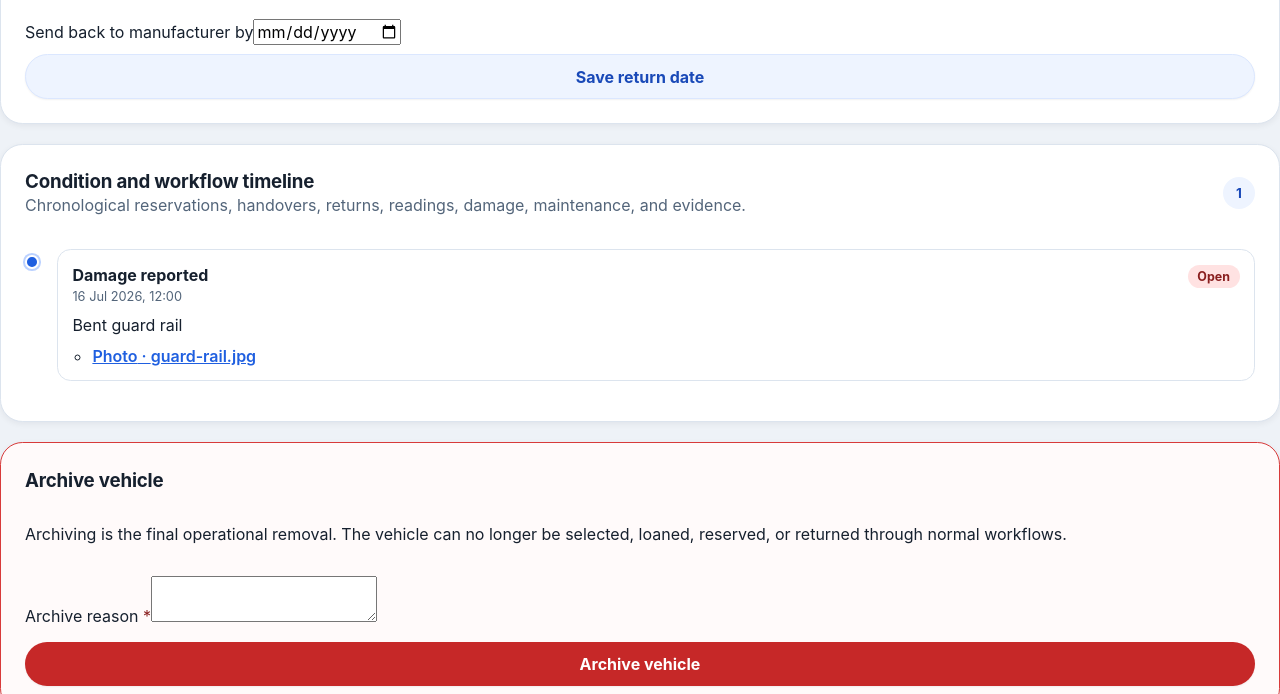
Test: VehicleDetailPage hardening › requires an archive reason and sends it after confirmation
(page scrolled)
Click the button "Archive vehicle" at point(640, 664), box [25,642,1255,686]
(page scrolled)
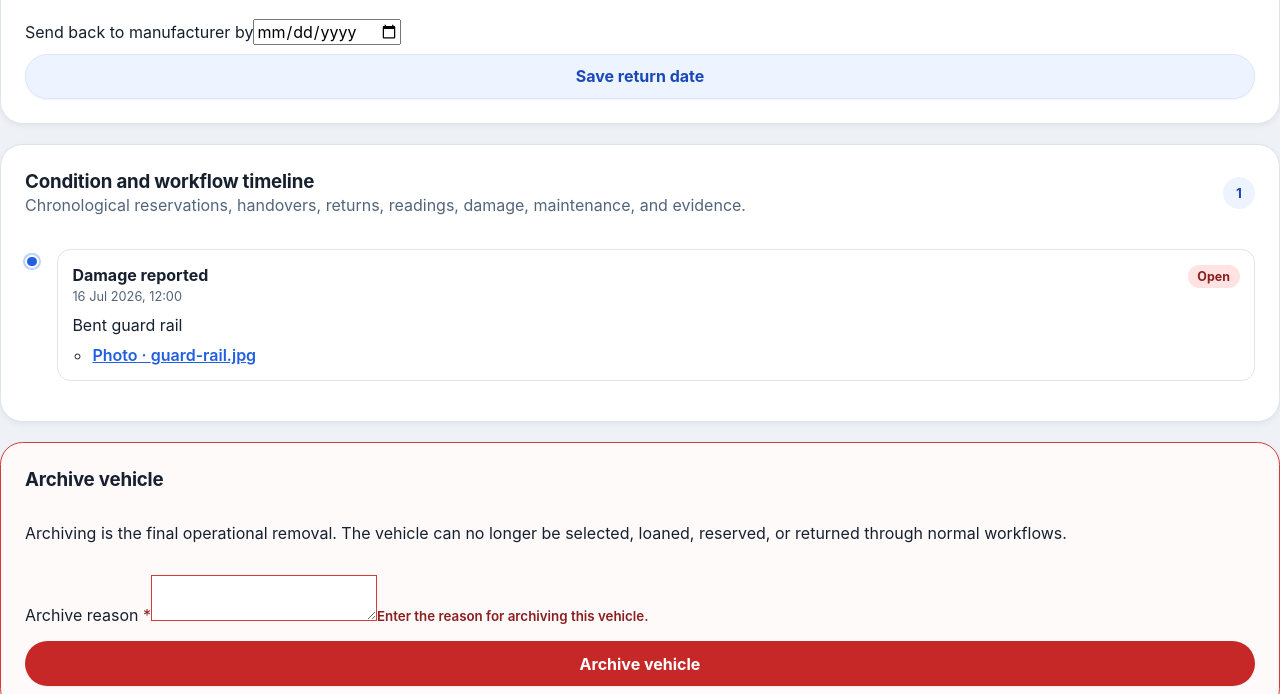
Type "Returned asset retired" into the text box labelled "Archive reason" at point(264, 598), box [151,575,377,621]
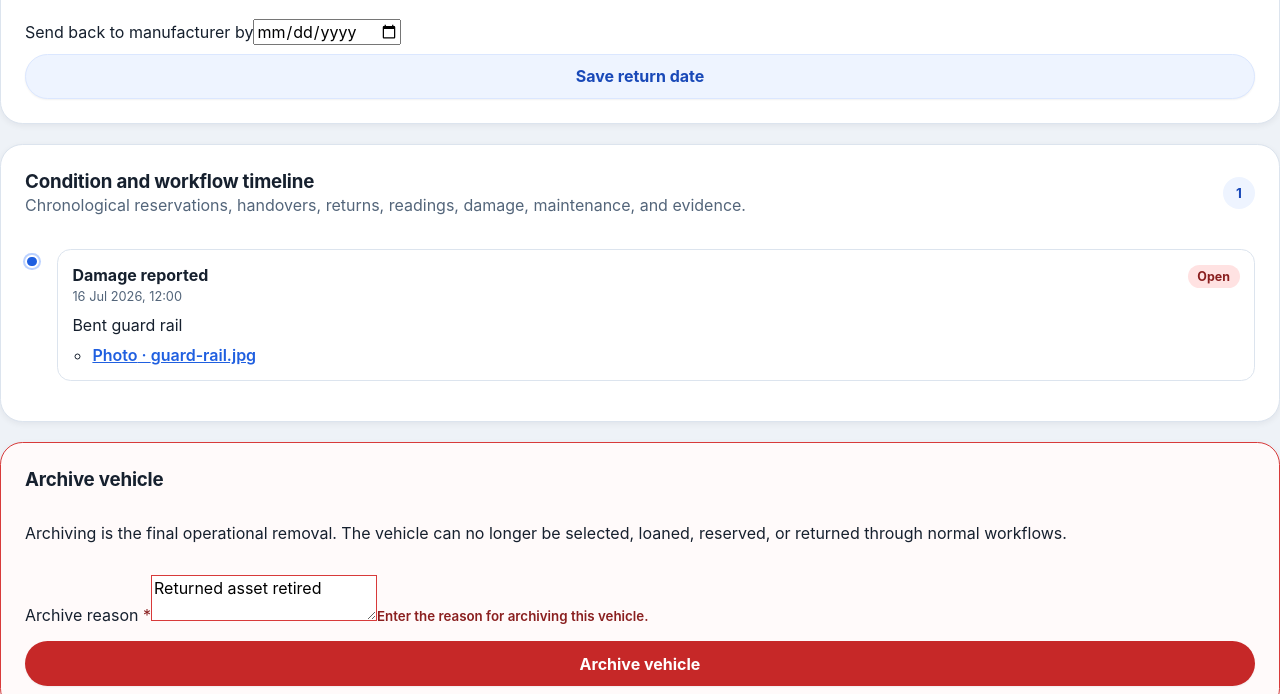
Click the button "Archive vehicle" at point(640, 664), box [25,641,1255,686]
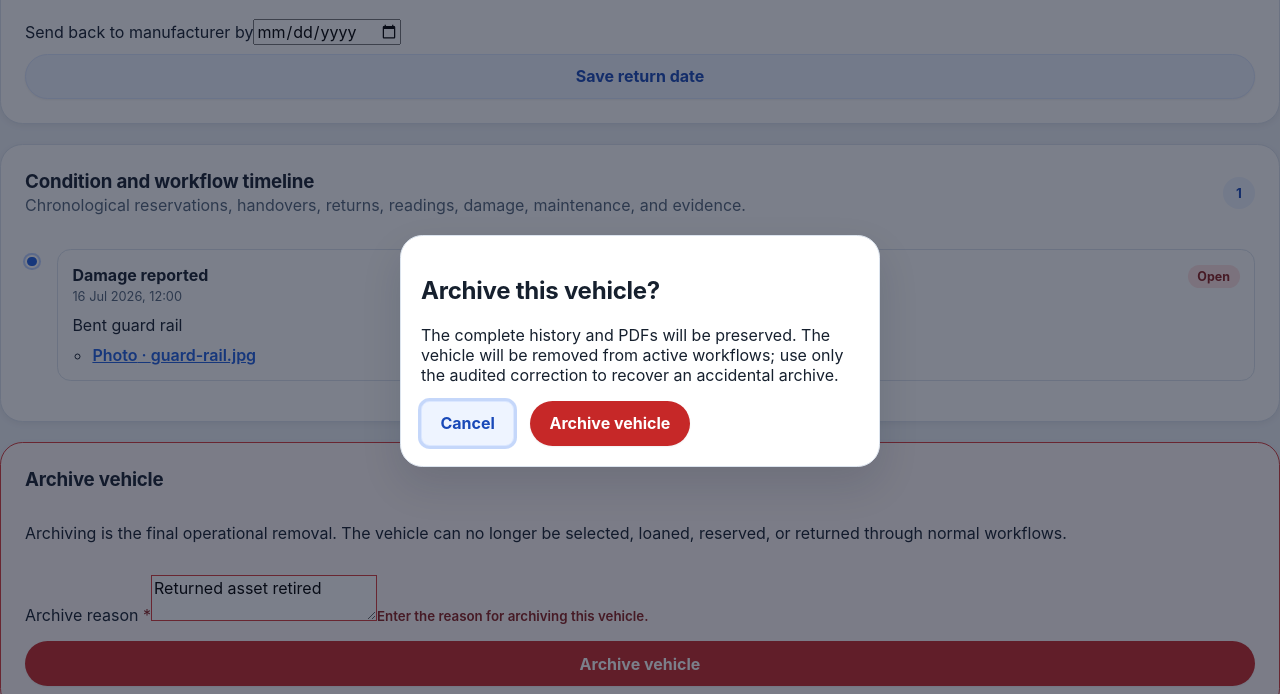
Click the button "Archive vehicle" at point(610, 423), box [530,401,690,446]
(page scrolled)
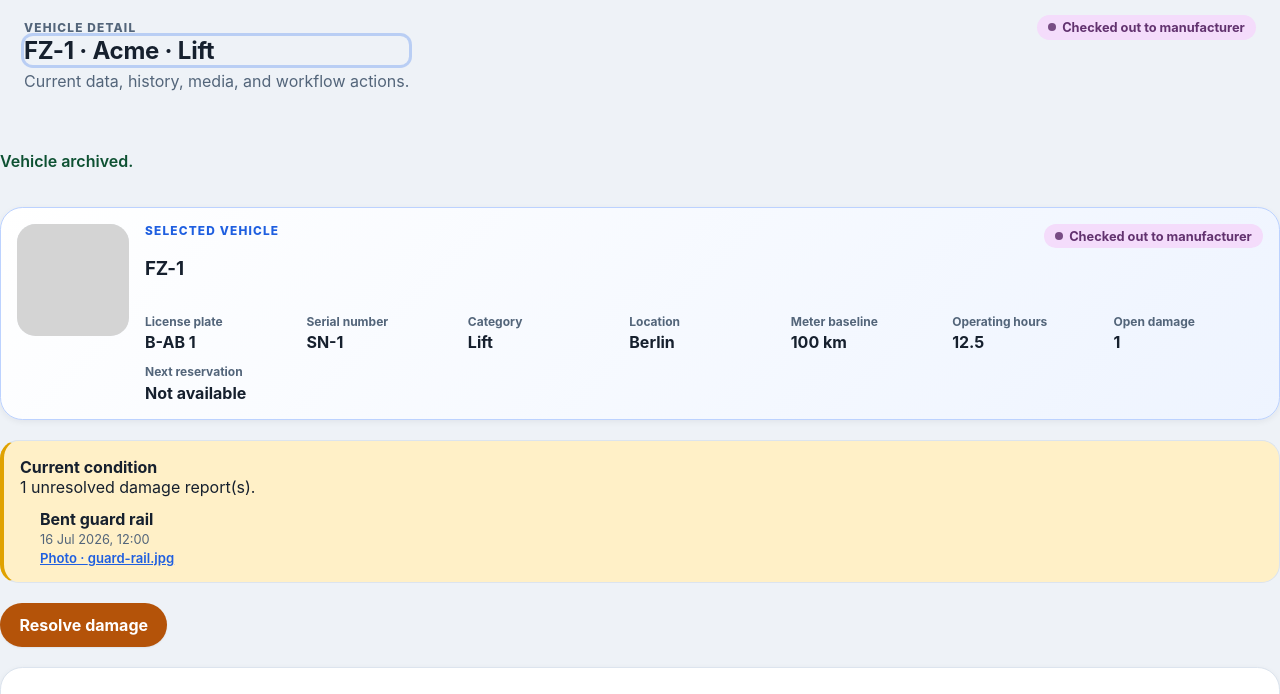
Check: the message shows "Vehicle archived", box [0,151,133,171]
